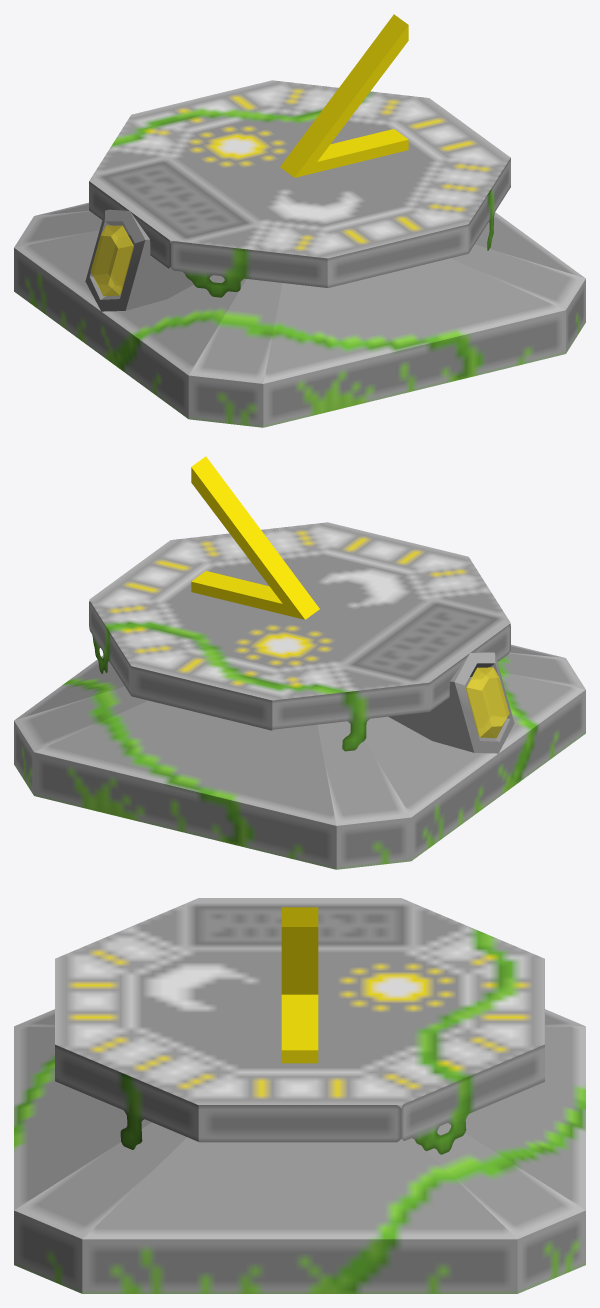
The model's file is time dial.fbx.
3 renders of one model, top to bottom at view 1: azimuth 30°, elevation 25°; view 2: azimuth 150°, elevation 25°; view 3: azimuth 270°, elevation 25°, orthographic. The views are drawn at different scales.
Parts seen in each view (by area): view 1: Cube, Cube.001; view 2: Cube, Cube.001; view 3: Cube.
Boxes of the visible parts, x1=… form: Cube: x1=14, y1=14, x2=585, y2=427; Cube.001: x1=90, y1=225, x2=133, y2=296; Cube: x1=14, y1=456, x2=585, y2=869; Cube.001: x1=466, y1=667, x2=509, y2=738; Cube: x1=14, y1=898, x2=585, y2=1293.
Size of the model in its own units: 4.03 by 2.53 by 4.
